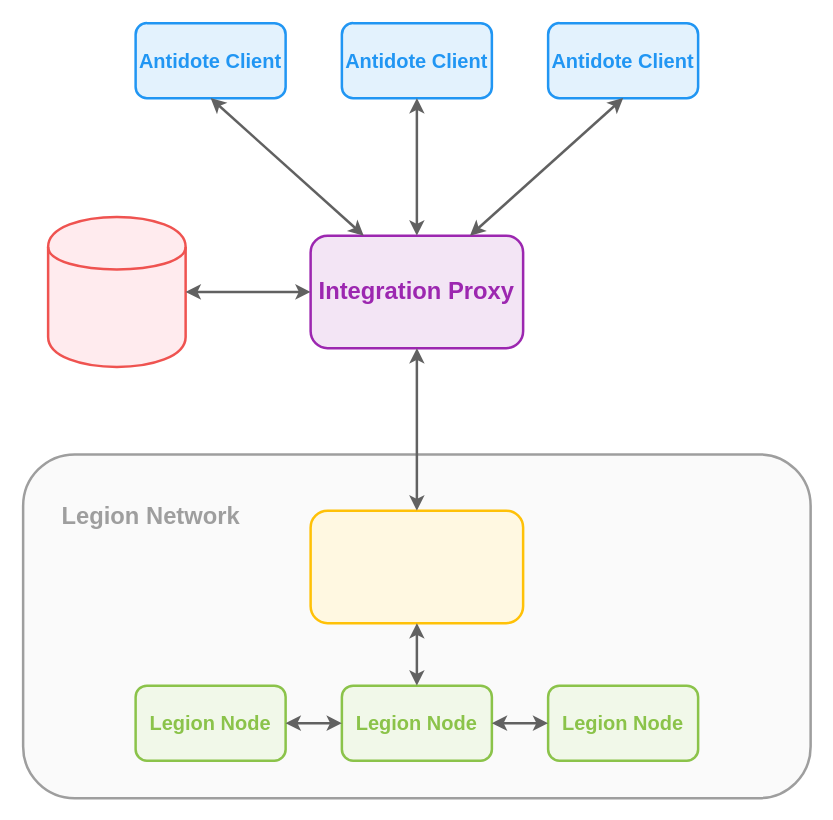
Some shapes in this 833 by 820 pixel diagram are drawn without their labels. Here are the shapes that lost their labels. From the top down, the centre of each, then its label:
At [116,291]: "Antidote".
At [416,566]: "Legion Objects Server".
